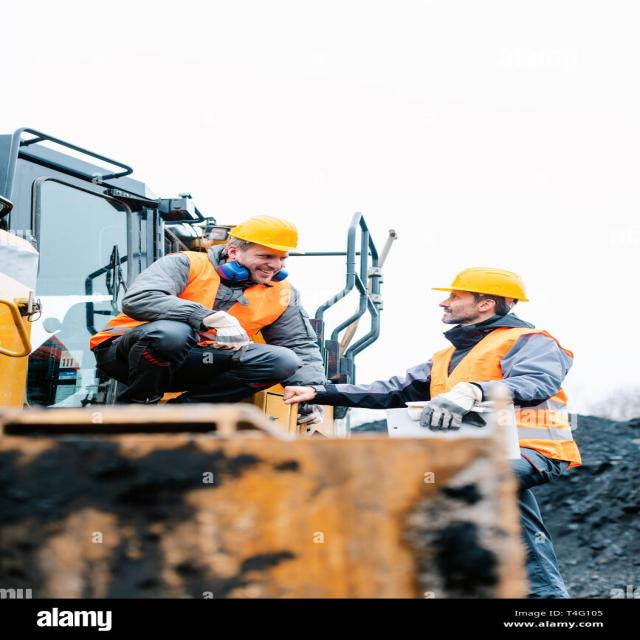person: (414, 260, 600, 610), (106, 190, 323, 408)
safety_helmet: (416, 256, 540, 302), (219, 212, 311, 255)
